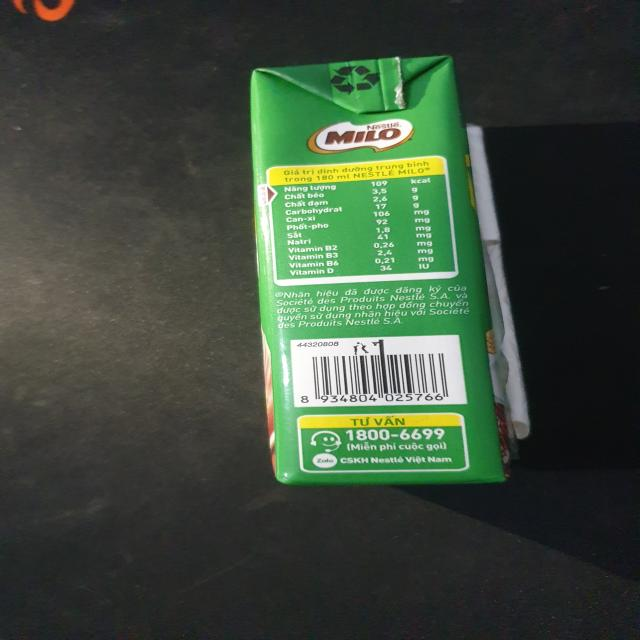Milo: (244, 52, 529, 485)
